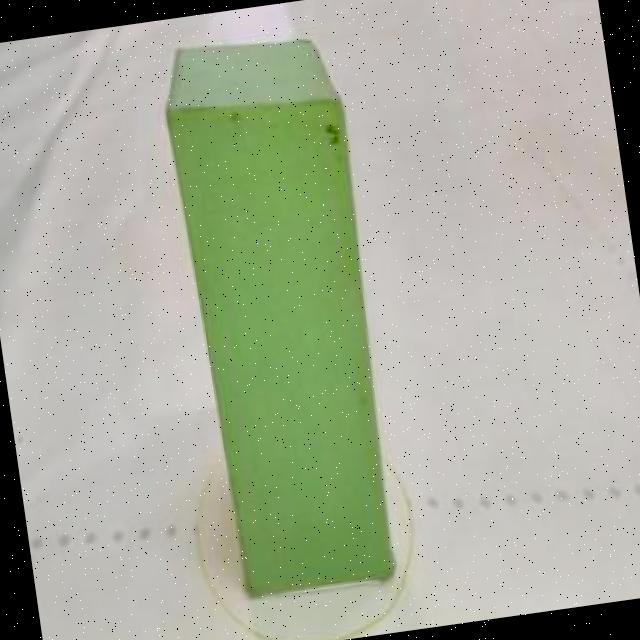greenbox: (150, 22, 414, 600)
